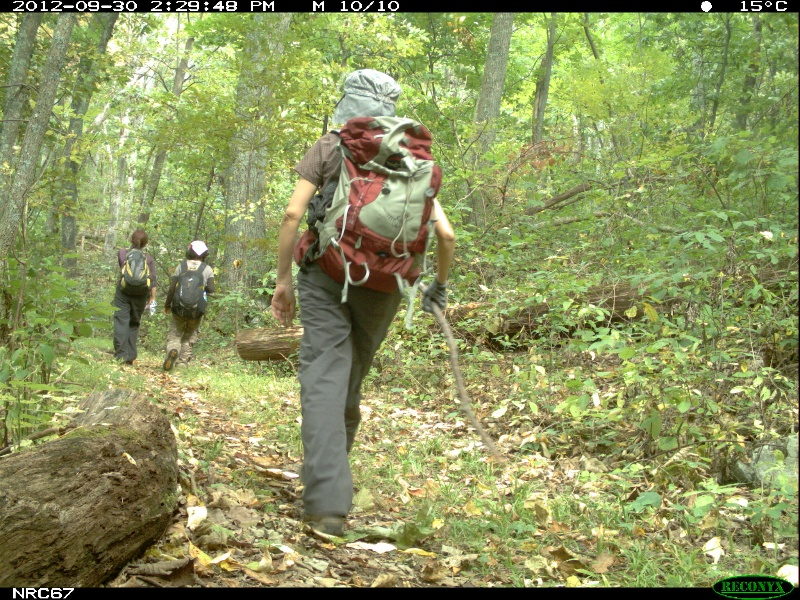human: (273, 64, 457, 545), (163, 237, 217, 376), (112, 227, 152, 369)
human legs: (295, 252, 404, 547), (112, 291, 147, 371), (165, 296, 199, 376)
